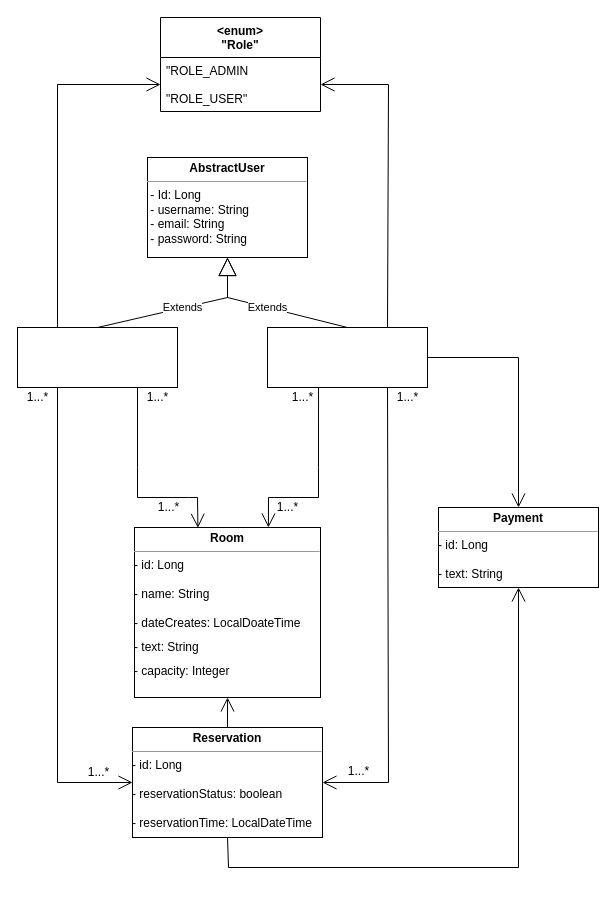
This 616x899 diagram has some shape labels left out. Here are the shapes that lost their labels. From the top down, the centre of each, then its label:
At [97,357]: "Admin".
At [347,357]: "User".
